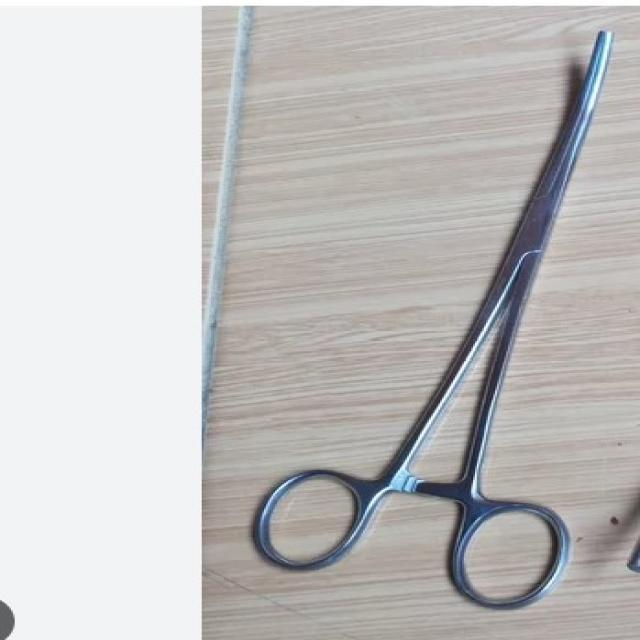Doyel Instestinal Forceps: (252, 24, 615, 612)
